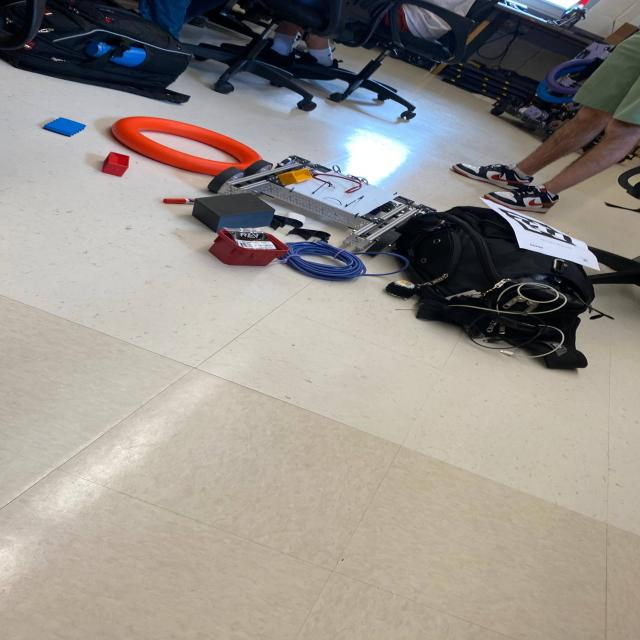red-specimen: (101, 152, 130, 176)
yellow-specimen: (278, 168, 312, 186)
